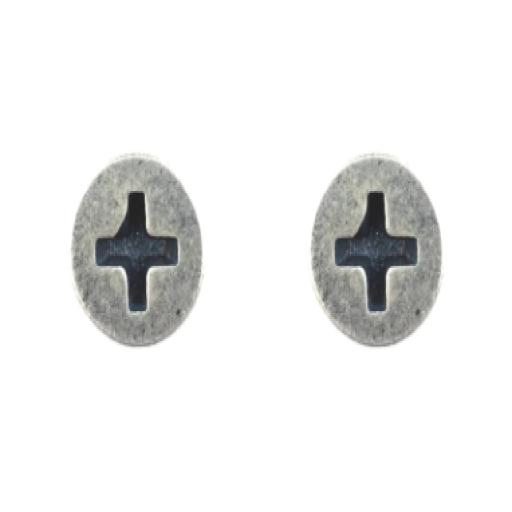Phillips: (71, 152, 204, 353), (312, 155, 440, 348)
